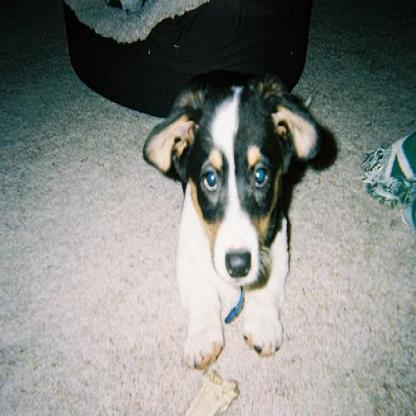Cardigan: (142, 72, 318, 372)
